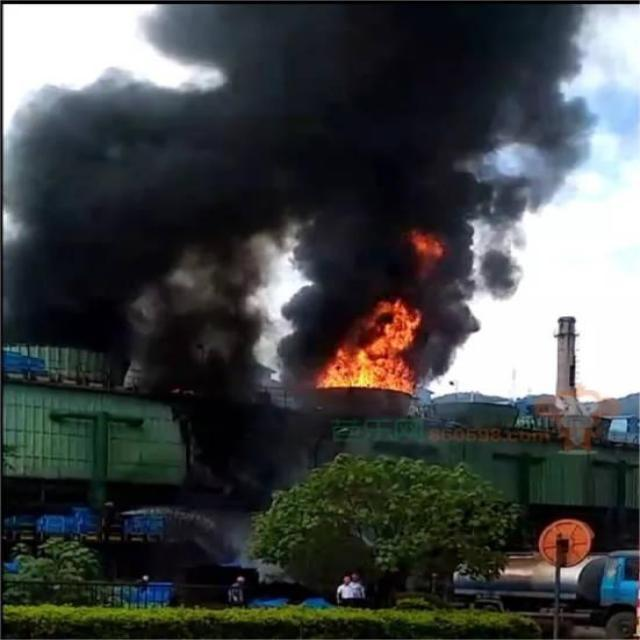Fire: (318, 303, 417, 391)
Smoke: (1, 5, 606, 301), (158, 301, 308, 494)
